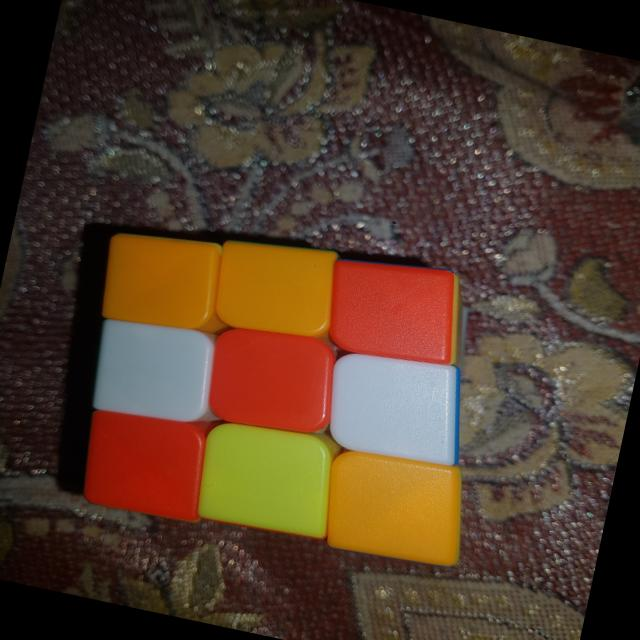general: (50, 196, 518, 582)
